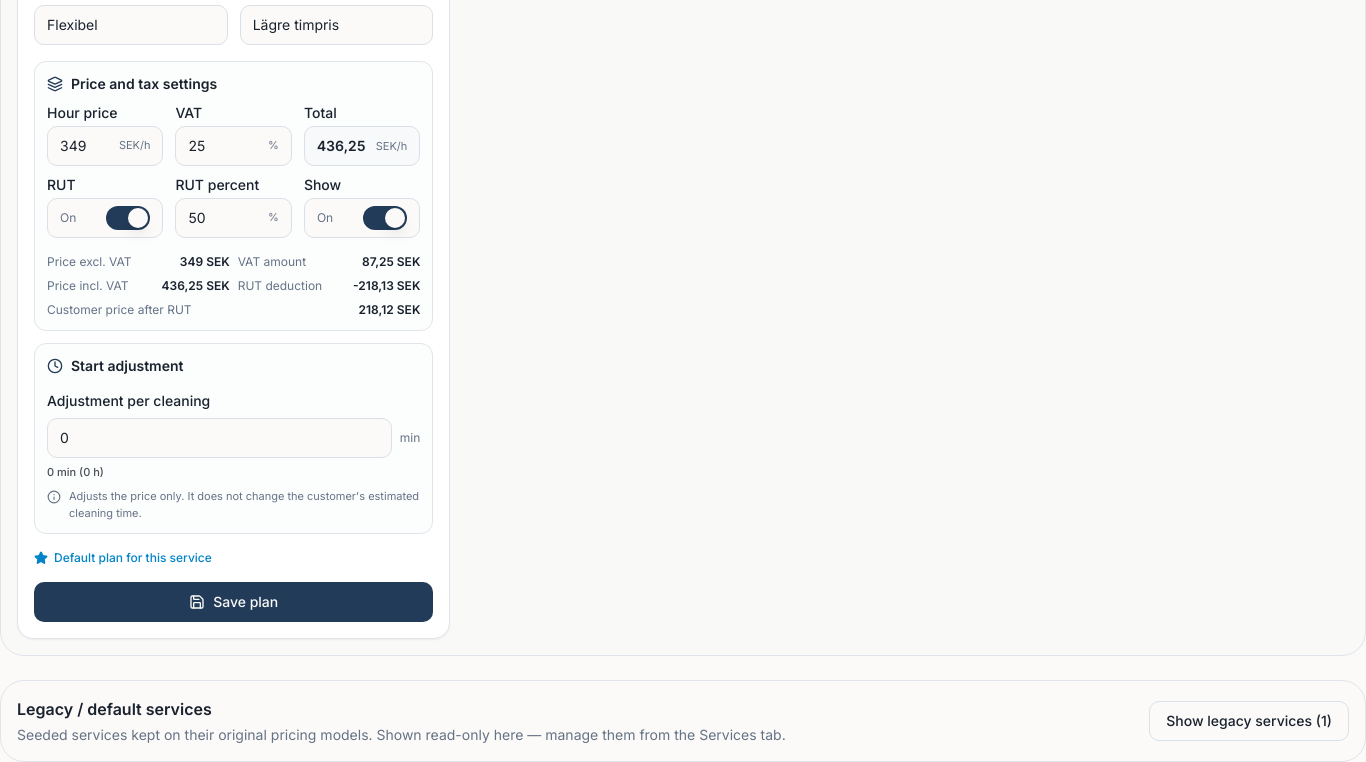
CleaningPlansEditor — GPM-4b-1 generic + legacy lanes › separates seeded legacy services behind a collapsed, read-only toggle
(page scrolled)
Expected: the heading "Legacy / default services" is shown, 17,699 -> 212,719
Expected: the heading "Move-out Cleaning" is not shown
// Expanding reveals it, read-only (managed from the Services tab).
What coordinates should you click on to do the following:
click the button "Show legacy services (1)"
I would click on:
 (1249, 721)
Its box is 1149,701 -> 1349,741.
(page scrolled)
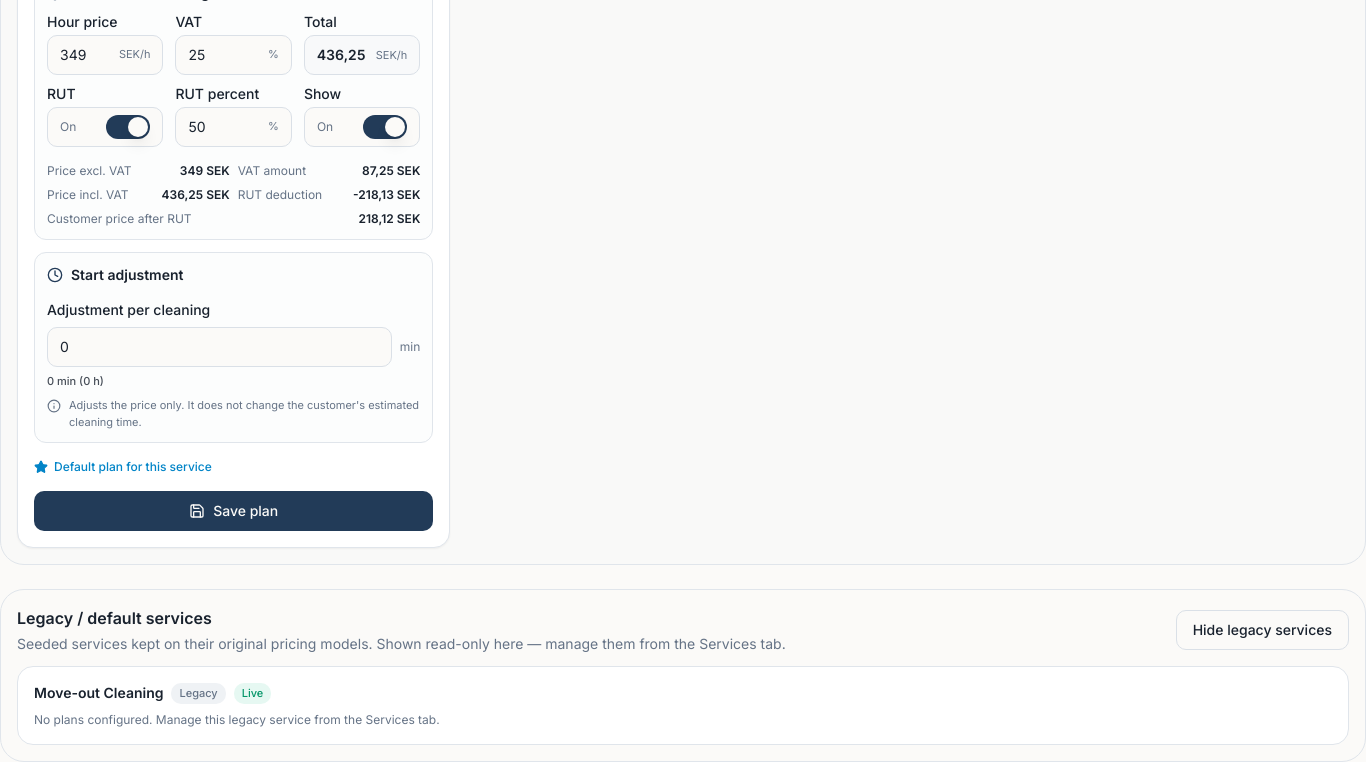
Now the heading "Move-out Cleaning" is shown, box 34,683 -> 164,703
Now the text "Manage this legacy service from the Services tab" is shown, box 156,712 -> 440,726
